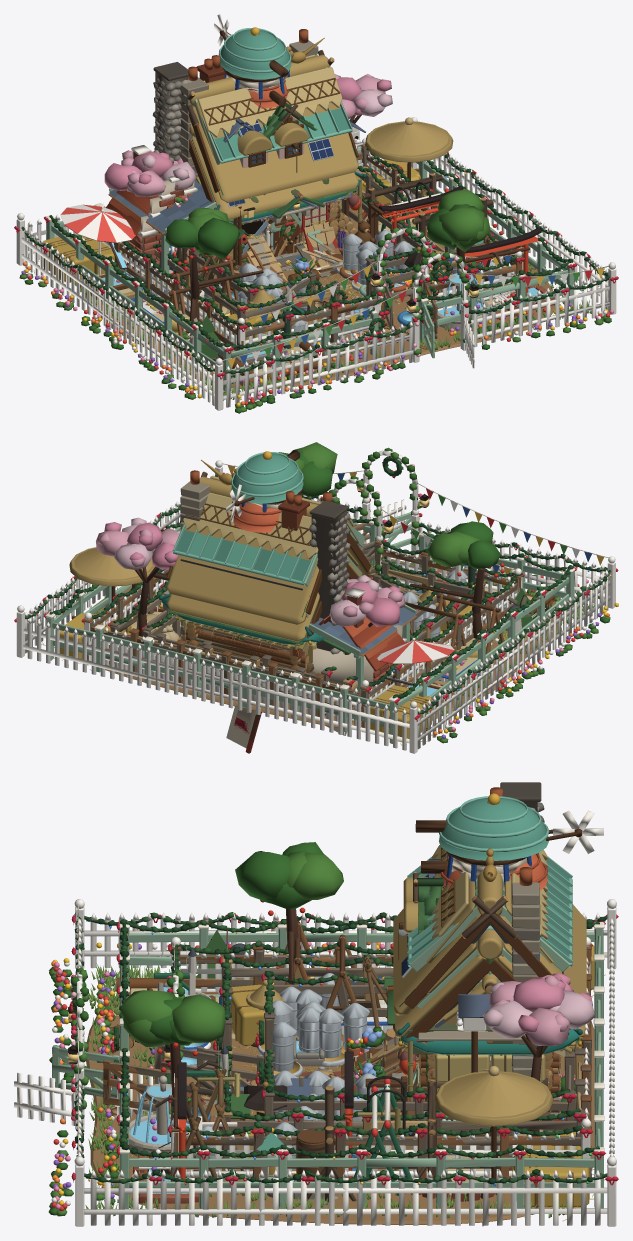
File: coops.glb
3 renders of one model, top to bottom at view 1: azimuth 30°, elevation 25°; view 2: azimuth 150°, elevation 25°; view 3: azimuth 270°, elevation 25°, orthographic. The views are drawn at different scales.
Visible parts, largest first — view 1: fence_t4, deluxe_orp, fence_t3, pen_t4, deluxe_pol, fence_dx, deluxe_bra, pen_t4_orp, pen_t3_leg, xmas_fence_t4, pen_t4_leg, cosy_sil (+29 smaller); view 2: fence_t4, deluxe_orp, fence_t3, deluxe_pol, fence_dx, deluxe_bra, deluxe_rir, deluxe_sil, pen_t4, pen_t3_leg, cosy_sil, fence_rustic (+23 smaller); view 3: fence_t4, fence_t3, pen_t4, pen_t4_orp, deluxe_orp, deluxe_pol, pen_t4_leg, pen_t3_leg, deluxe_sil, xmas_fence_t3, fence_t1, deluxe_bra (+31 smaller).
Part boxes in pixels (x1,y1,x2,y2): fence_t4: (16,117,616,413); deluxe_orp: (154,38,436,340); fence_t3: (46,148,574,391); pen_t4: (60,173,581,392); deluxe_pol: (106,14,435,349); fence_dx: (102,138,522,357); deluxe_bra: (152,50,431,344); pen_t4_orp: (52,117,587,399); pen_t3_leg: (84,187,494,345); xmas_fence_t4: (14,152,618,379); pen_t4_leg: (34,182,590,395); cosy_sil: (104,150,386,339); fence_t4: (16,447,618,753); deluxe_orp: (166,459,370,624); fence_t3: (45,512,575,743); deluxe_pol: (226,450,406,707); fence_dx: (84,476,522,728); deluxe_bra: (166,471,375,683); deluxe_rir: (173,522,364,663); deluxe_sil: (96,517,374,676); pen_t4: (81,555,582,729); pen_t3_leg: (158,521,536,720); cosy_sil: (158,575,405,692); fence_rustic: (87,517,517,716); fence_t4: (14,899,616,1226); fence_t3: (52,922,604,1208); pen_t4: (86,921,594,1224); pen_t4_orp: (89,960,593,1216); deluxe_orp: (112,845,586,1115); deluxe_pol: (104,793,603,1115); pen_t4_leg: (88,965,593,1217); pen_t3_leg: (144,842,467,1201); deluxe_sil: (111,973,594,1136); xmas_fence_t3: (110,919,605,1159); fence_t1: (154,956,586,1170); deluxe_bra: (111,782,560,1136).
Size of the model in its own units: 5.05 by 3.57 by 4.72.
